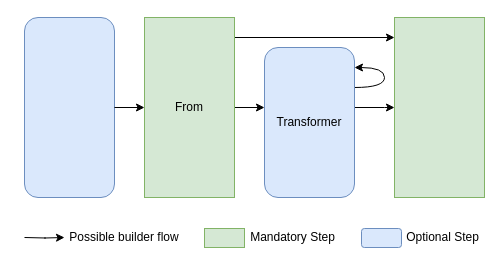
This 502x265 diagram has some shape labels left out. Each missing label, with the centre of its shape:
Name: (x=69, y=107)
To: (x=439, y=107)
